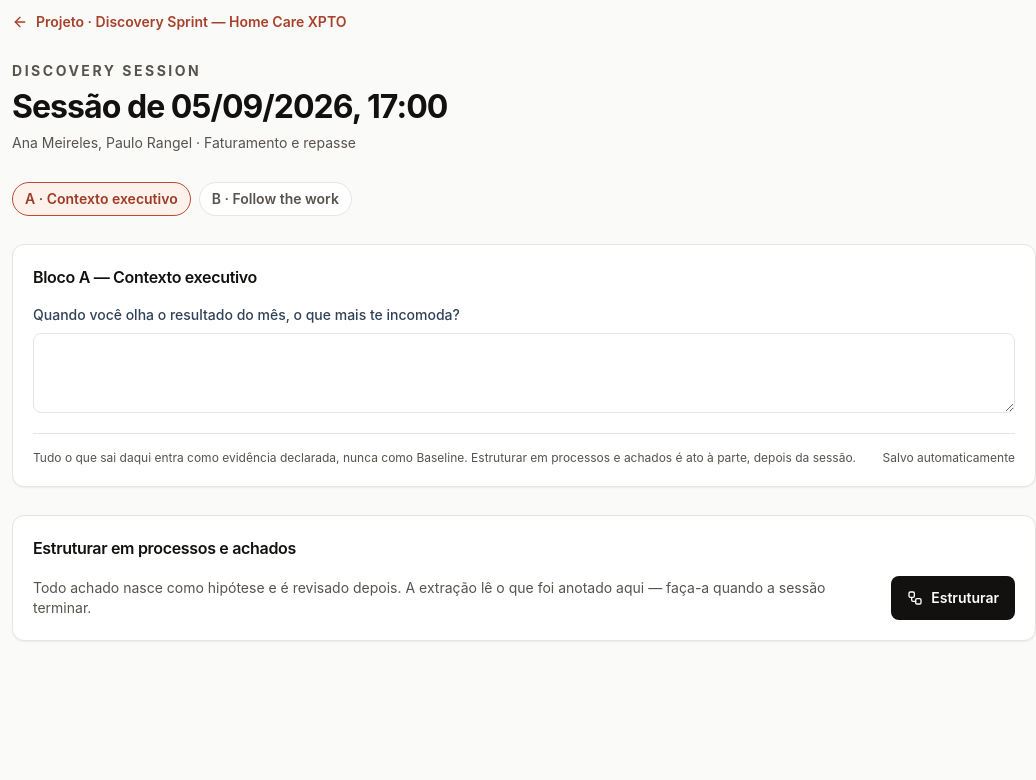
o botão manual reenvia o mesmo bloco e o alerta some quando dá certo
The image size is (1036, 780).
expect the heading "Sessão de 05/09/2026, 17:00" is shown: met, box x1=12 y1=87 x2=447 y2=126
Type "Atrasa." into the text box labelled "Quando você olha o resultado do mês, o que mais te incomoda?" at (524, 373), box x1=33 y1=333 x2=1015 y2=413
Wait 2000 ms
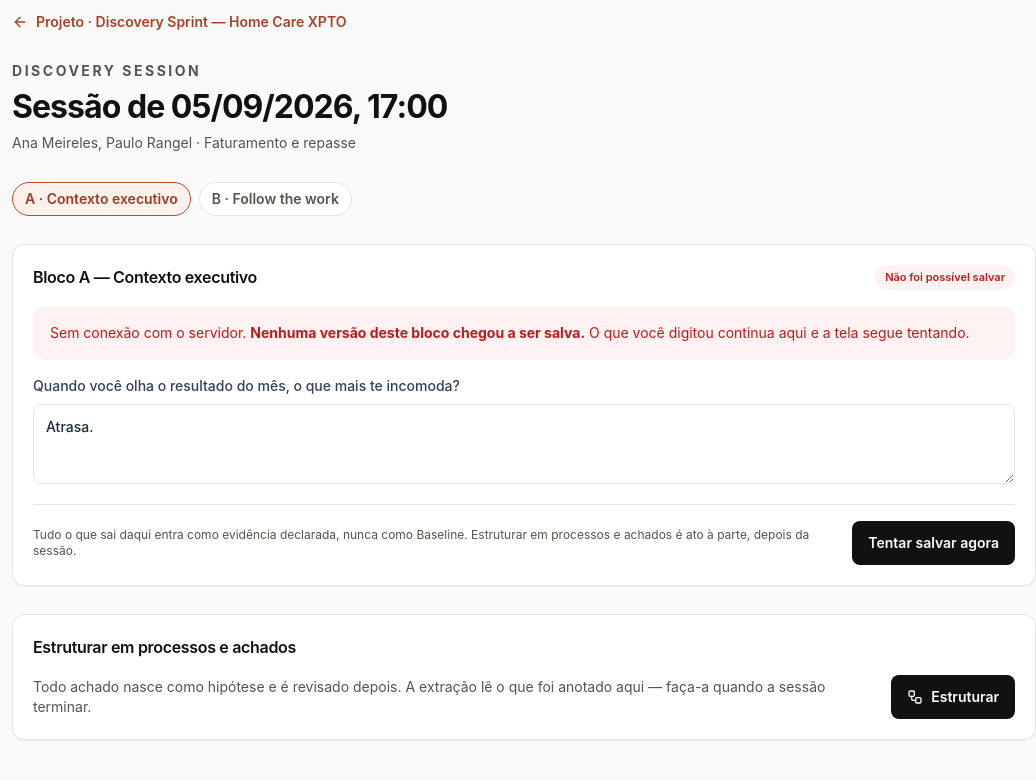
Click the button "Tentar salvar agora" at (934, 542), box x1=852 y1=520 x2=1015 y2=564
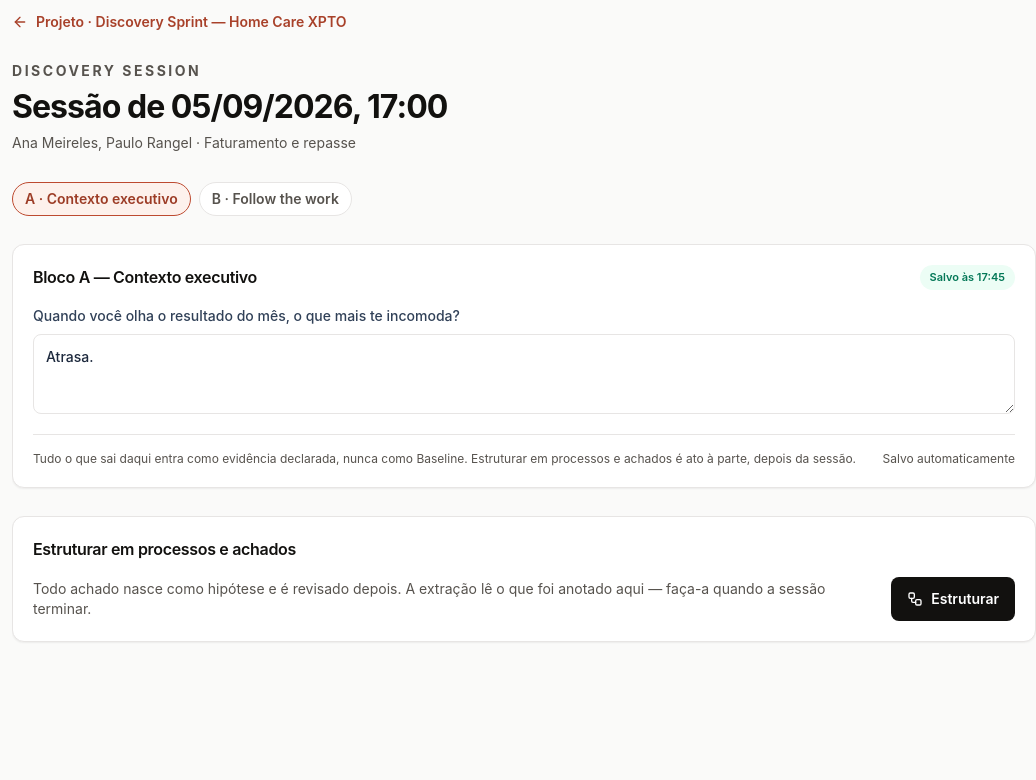
expect the message is gone: met
expect the button "Tentar salvar agora" is gone: met
